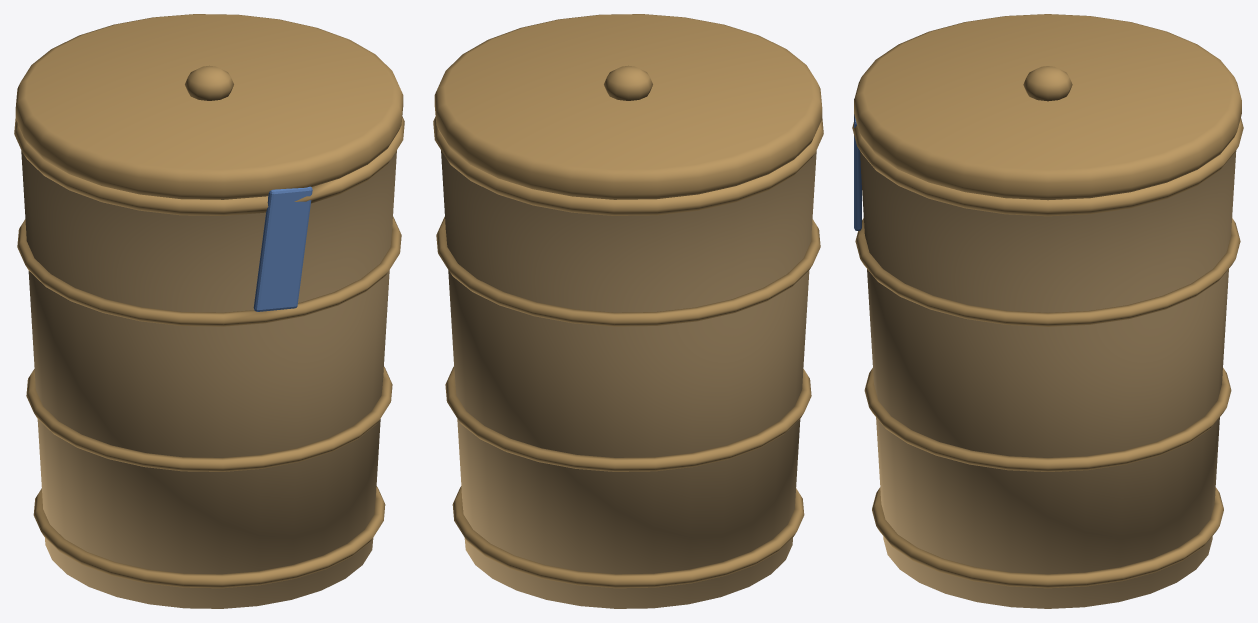
Rendered from laundryHamper.glb.
3 renders of one model, left to right at view 1: azimuth 30°, elevation 25°; view 2: azimuth 150°, elevation 25°; view 3: azimuth 270°, elevation 25°, orthographic.
Parts seen in each view (by area): view 1: laundryHamper, lid; view 2: laundryHamper, lid; view 3: laundryHamper, lid.
Part boxes in pixels (box(x1,y1,x2,y2)): laundryHamper: box(14, 116, 404, 608); lid: box(15, 14, 403, 199); laundryHamper: box(433, 116, 823, 608); lid: box(434, 14, 822, 199); laundryHamper: box(852, 99, 1243, 608); lid: box(854, 14, 1241, 200).
Bounding box in the file's own units: 0.476 × 0.631 × 0.476.
